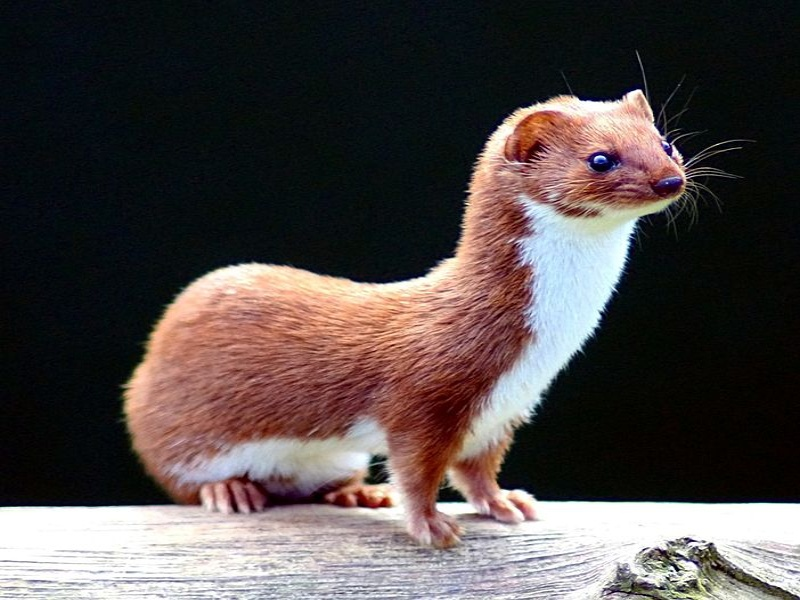minkish: (110, 81, 727, 555)
